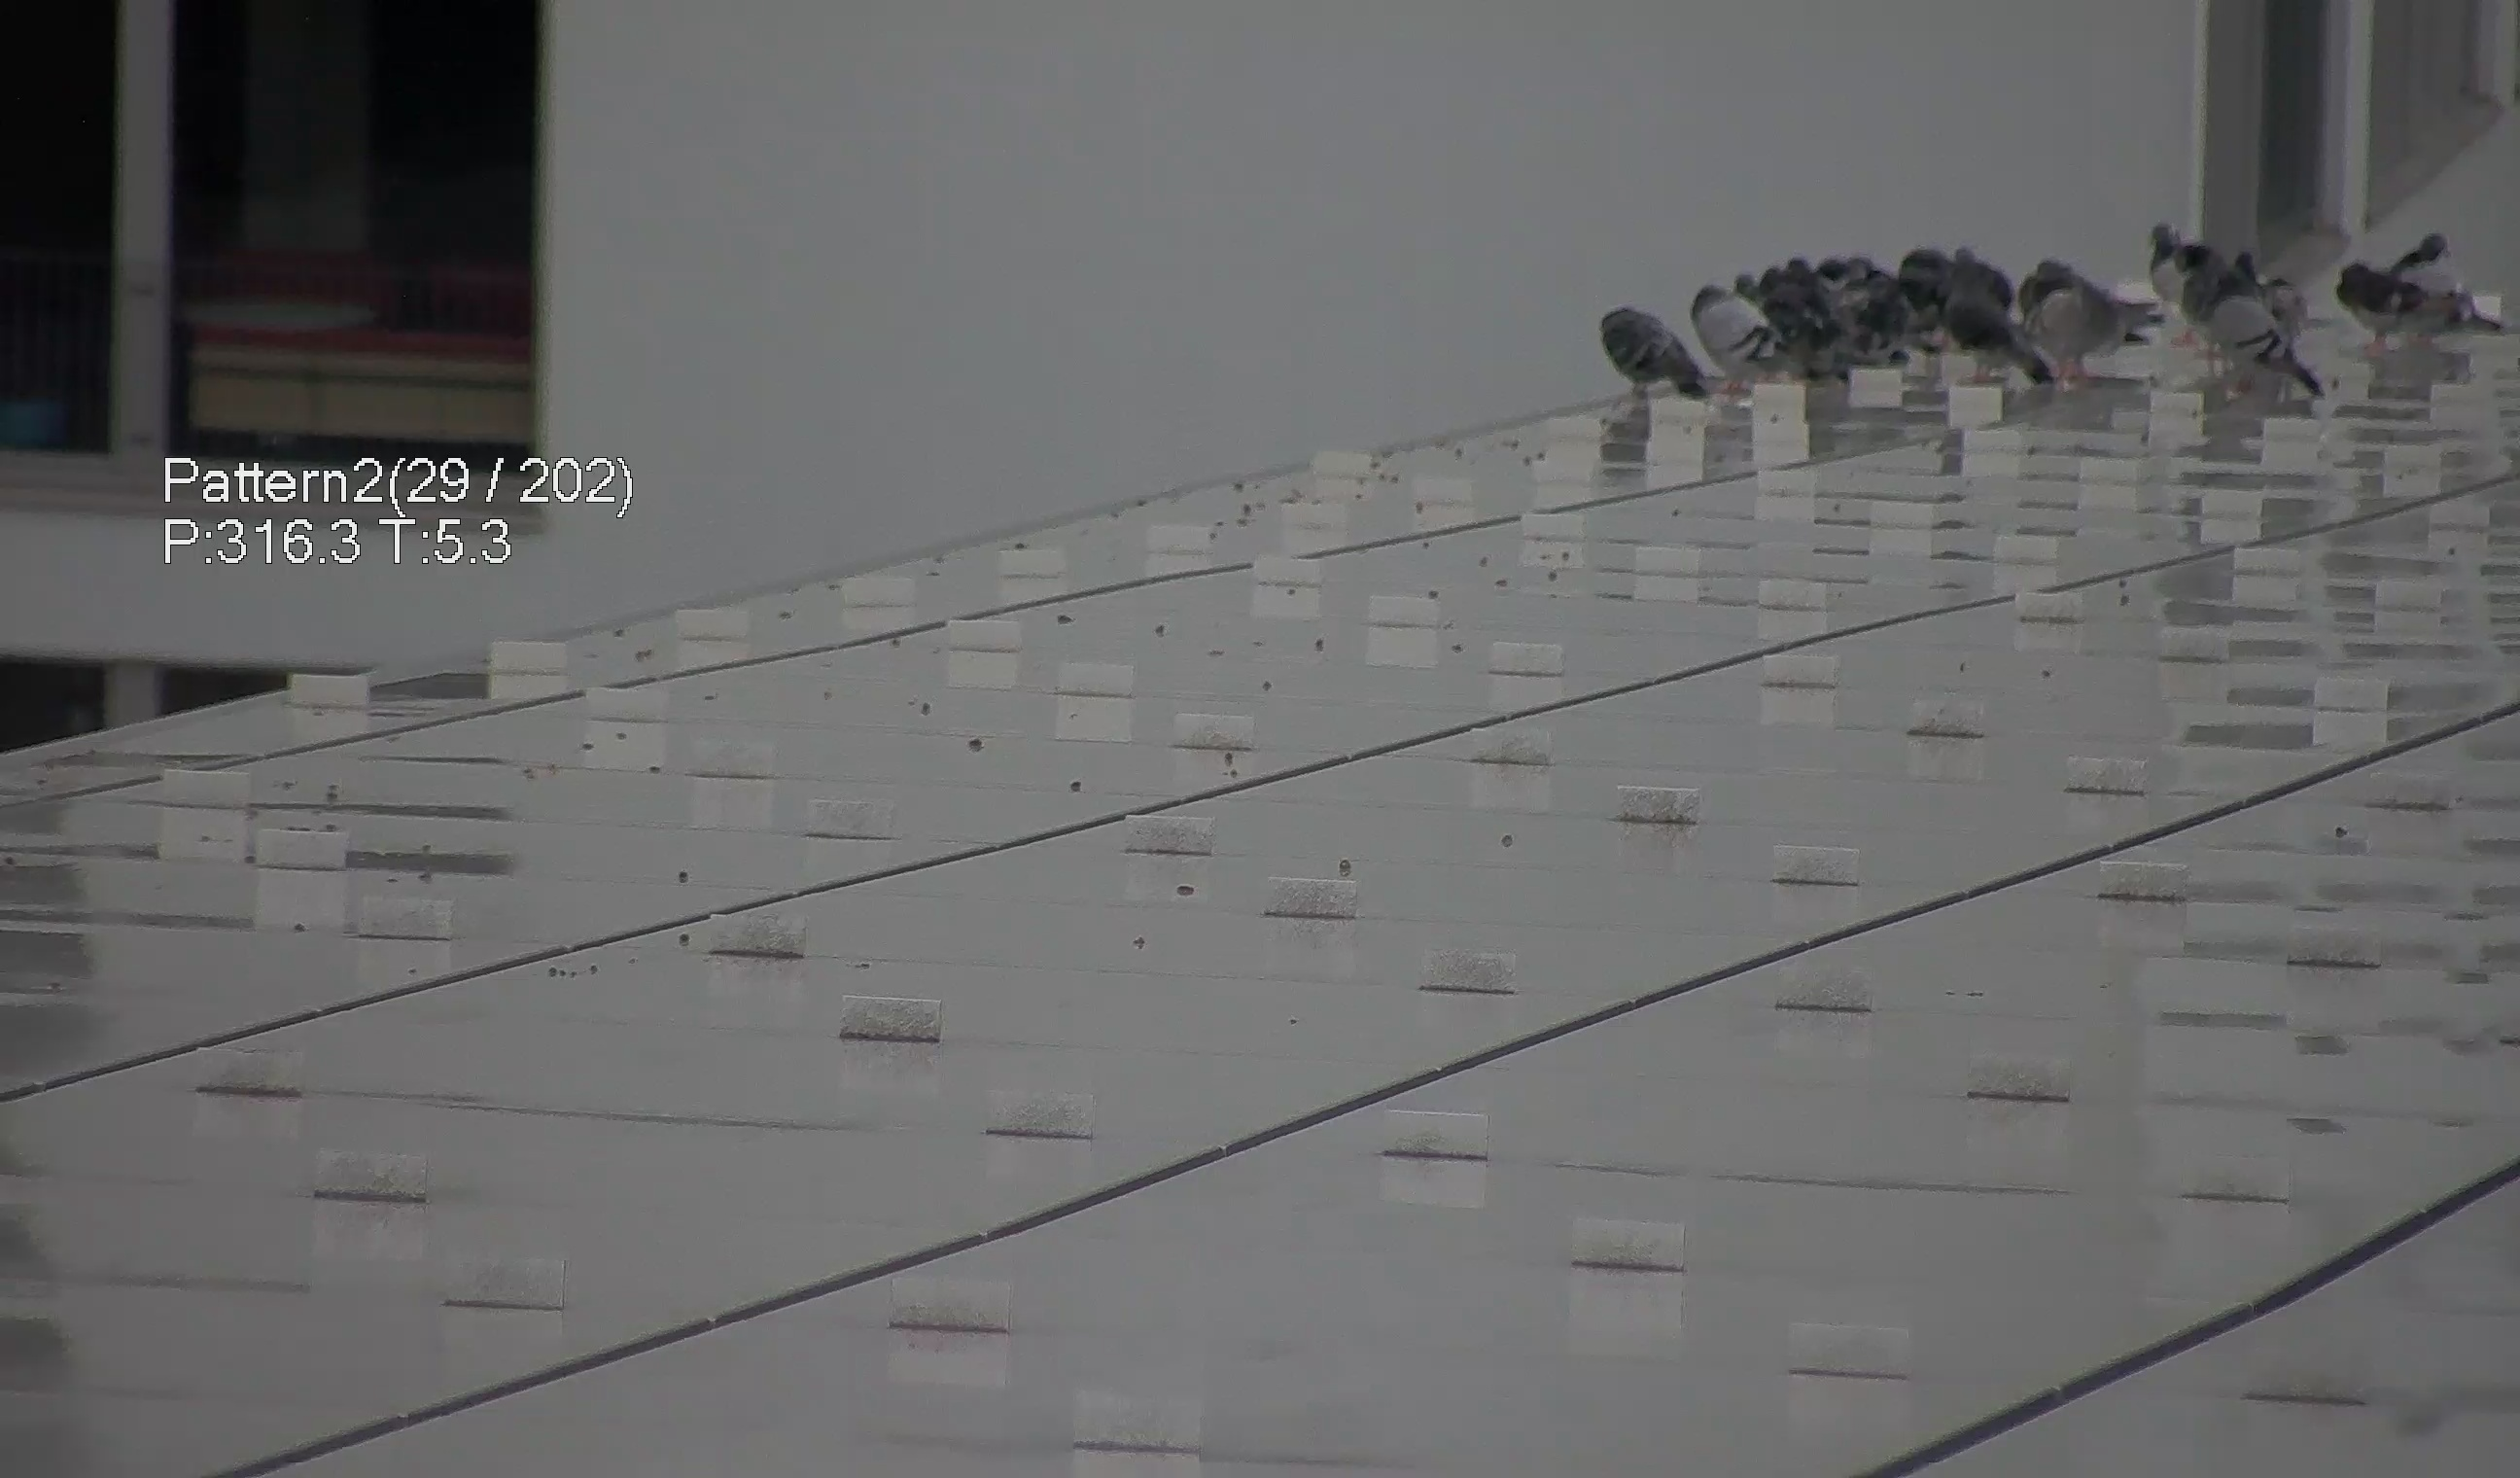Pigeon: (2024, 245, 2172, 373), (1693, 278, 1815, 410), (2337, 264, 2483, 362), (2203, 296, 2321, 417), (1597, 292, 1716, 410), (2156, 230, 2258, 315)
